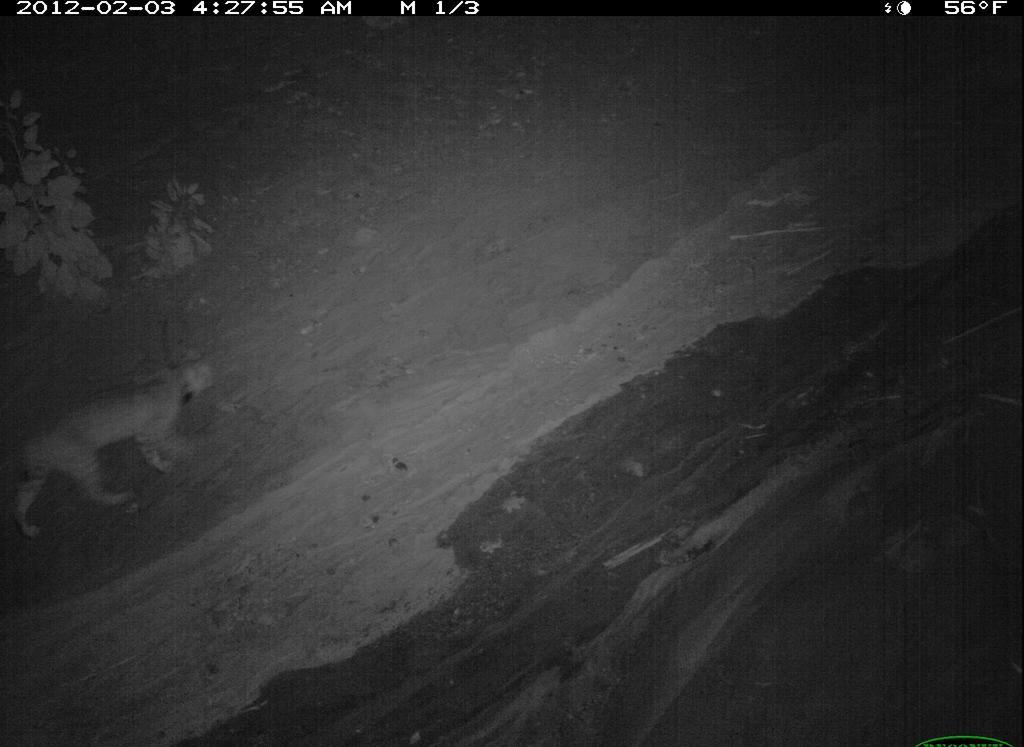bobcat: (12, 674, 438, 747)
